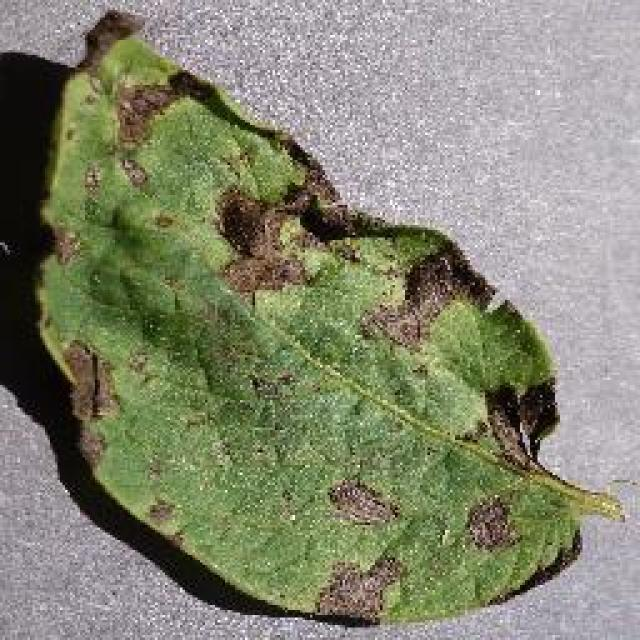early_blight: (25, 8, 625, 630)
